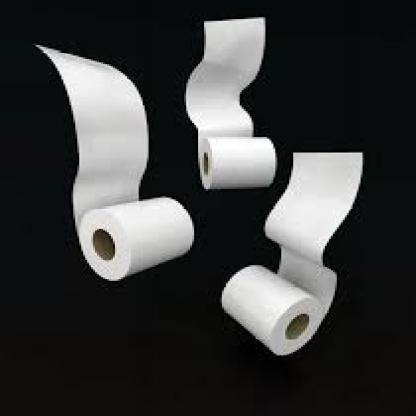tissue: (219, 249, 328, 355), (80, 196, 198, 284), (196, 131, 279, 187)
